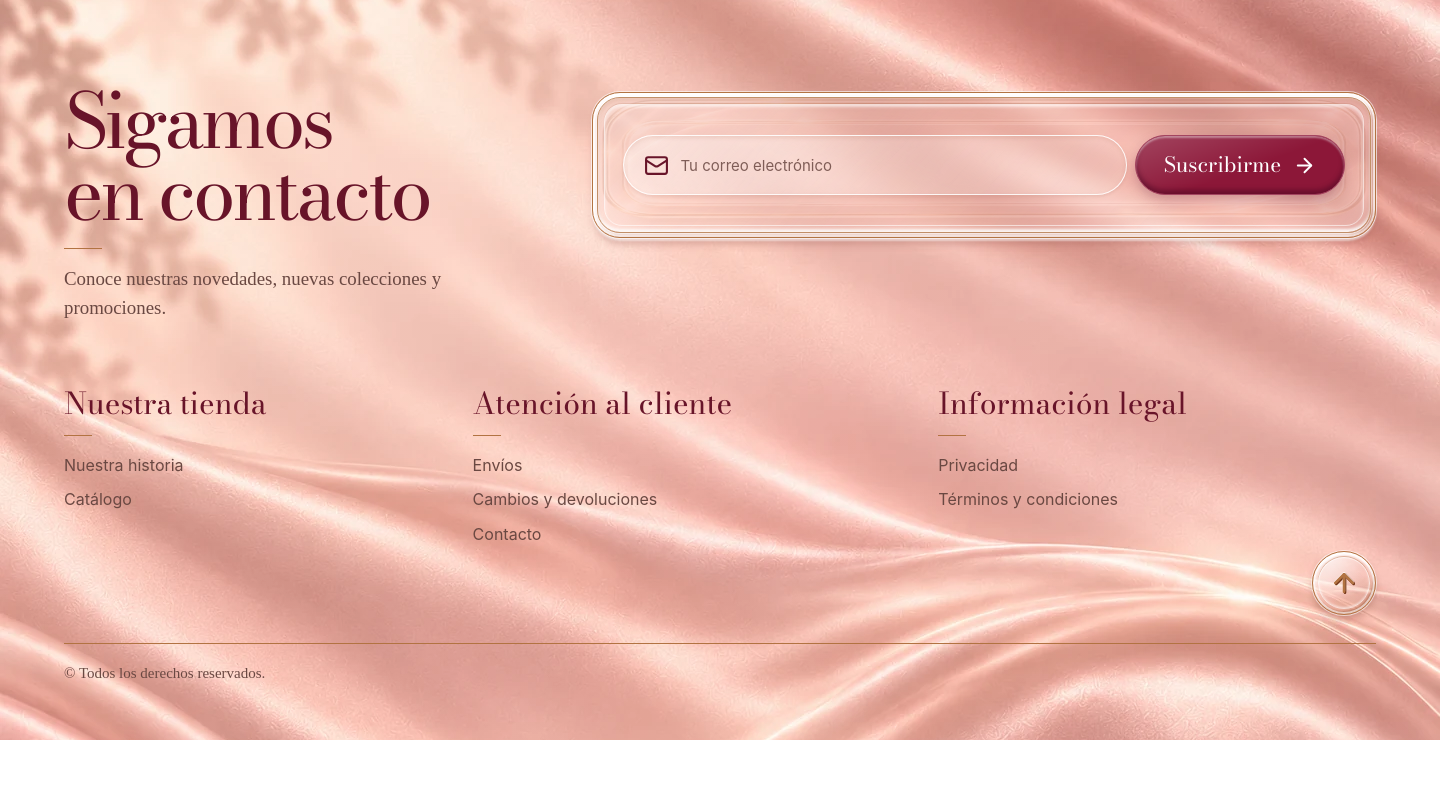
it: footer Firma editorial › confirma la suscripción solo después del guardado y muestra un error cuando falla
This screenshot has width=1440, height=810.
Type " USER@EXAMPLE.COM " into the field labelled "correo electrónico".
click(893, 165); type(" USER@EXAMPLE.COM ")  # box 680,154 -> 1106,176
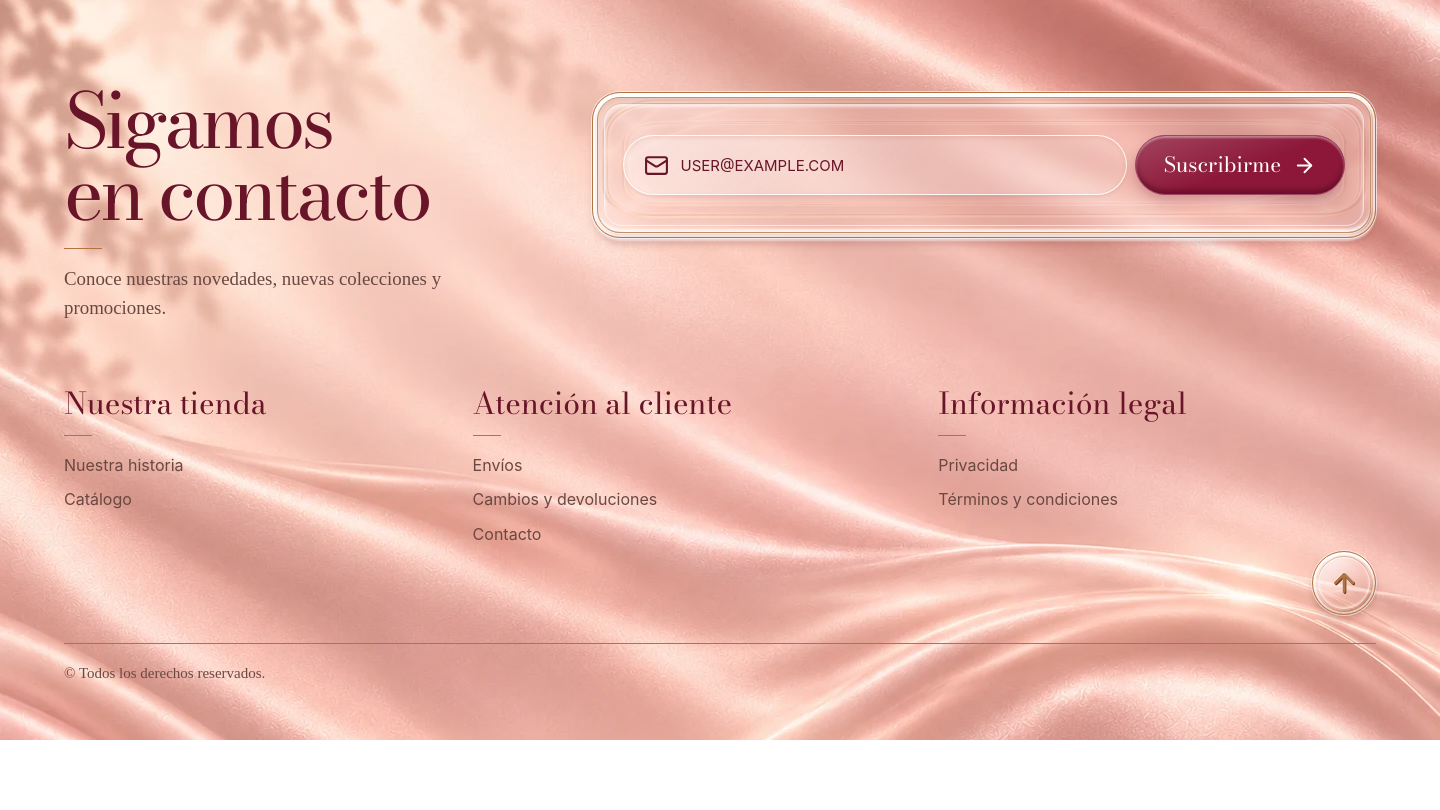
Submit the form "Suscribirme", box 592,92 -> 1376,238
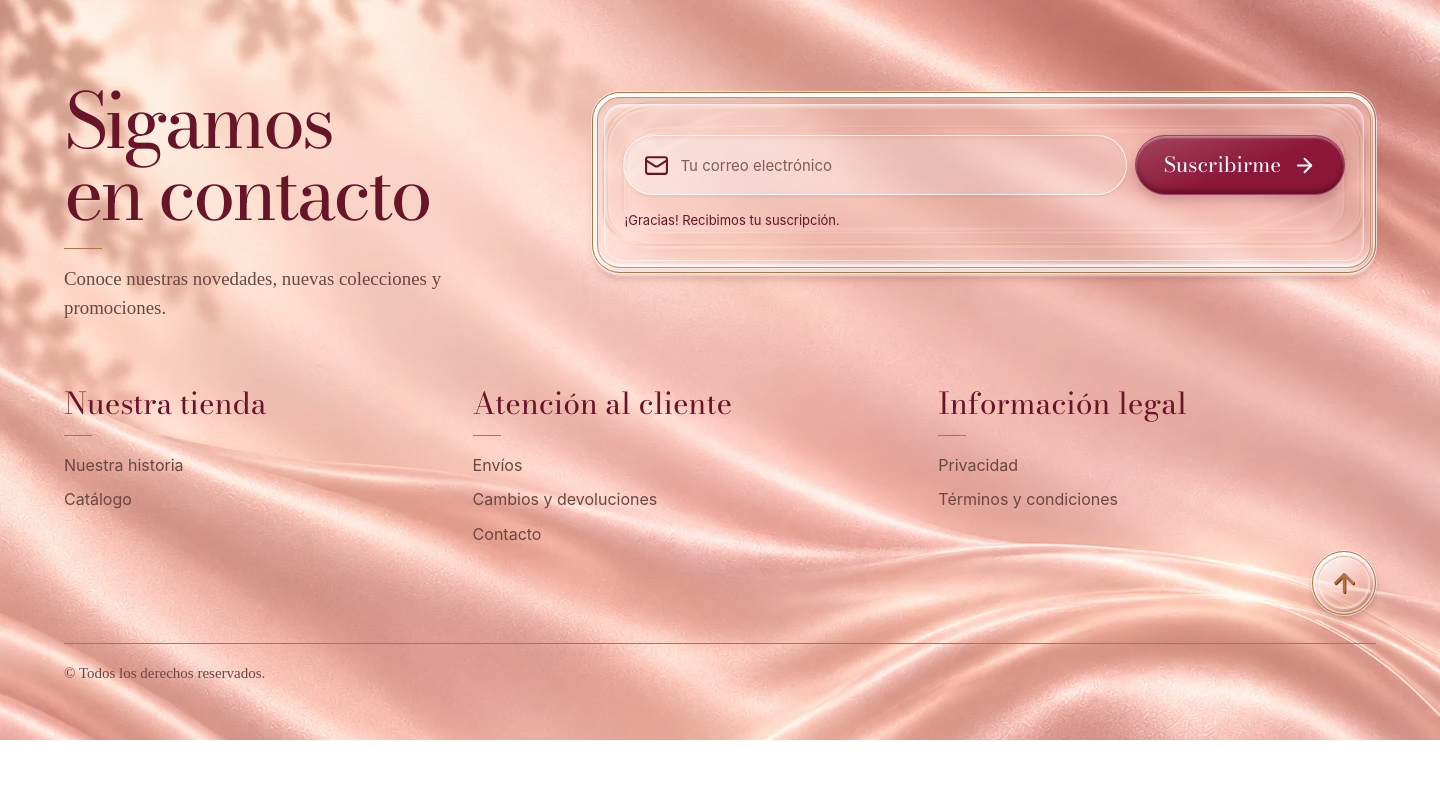
Now the message "¡Gracias! Recibimos tu suscripción." is shown, box 624,212 -> 840,228
Now the field labelled "correo electrónico" is empty
Type "other@example.com" into the field labelled "correo electrónico".
click(893, 165); type("other@example.com")  # box 680,154 -> 1106,176
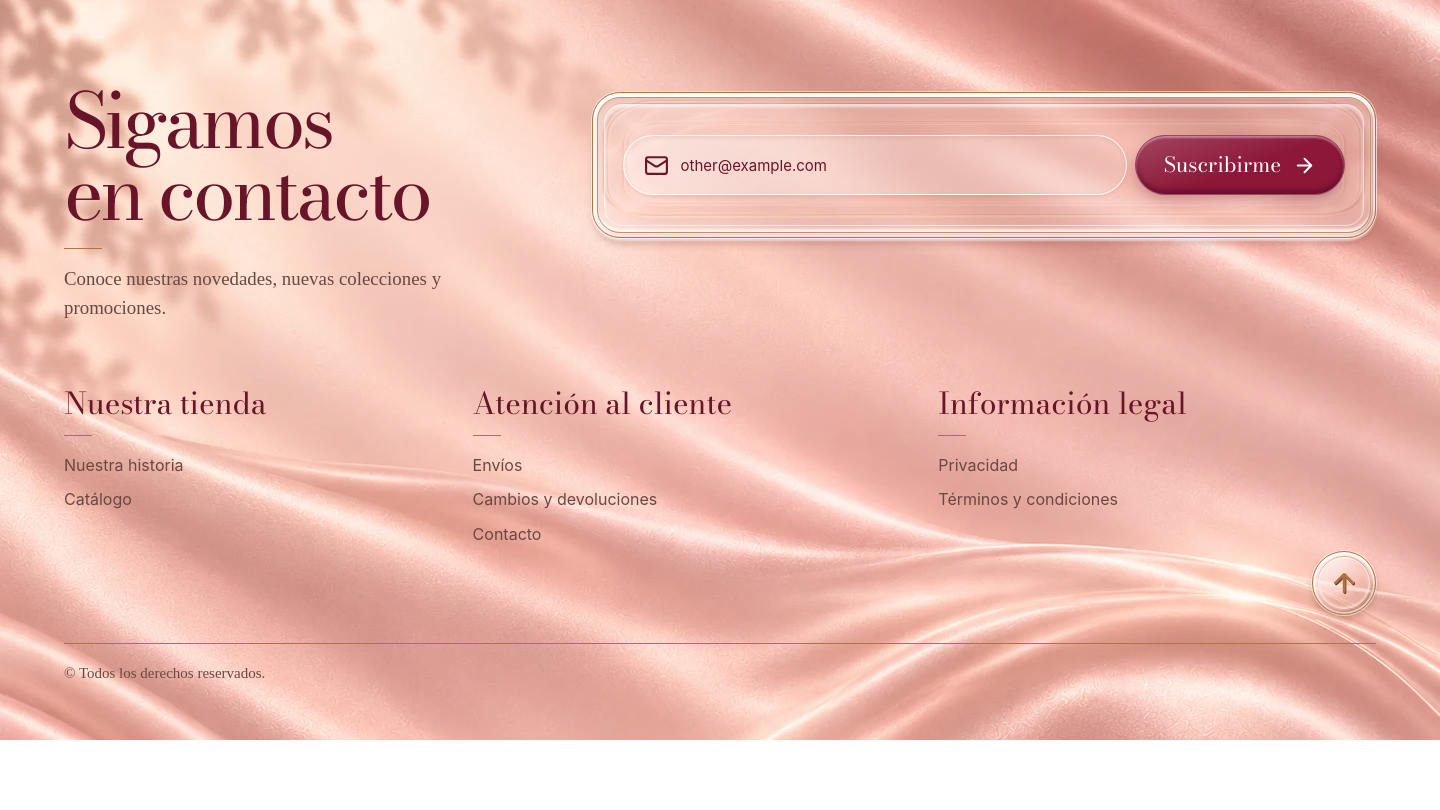
Submit the form "Suscribirme", box 592,92 -> 1376,238
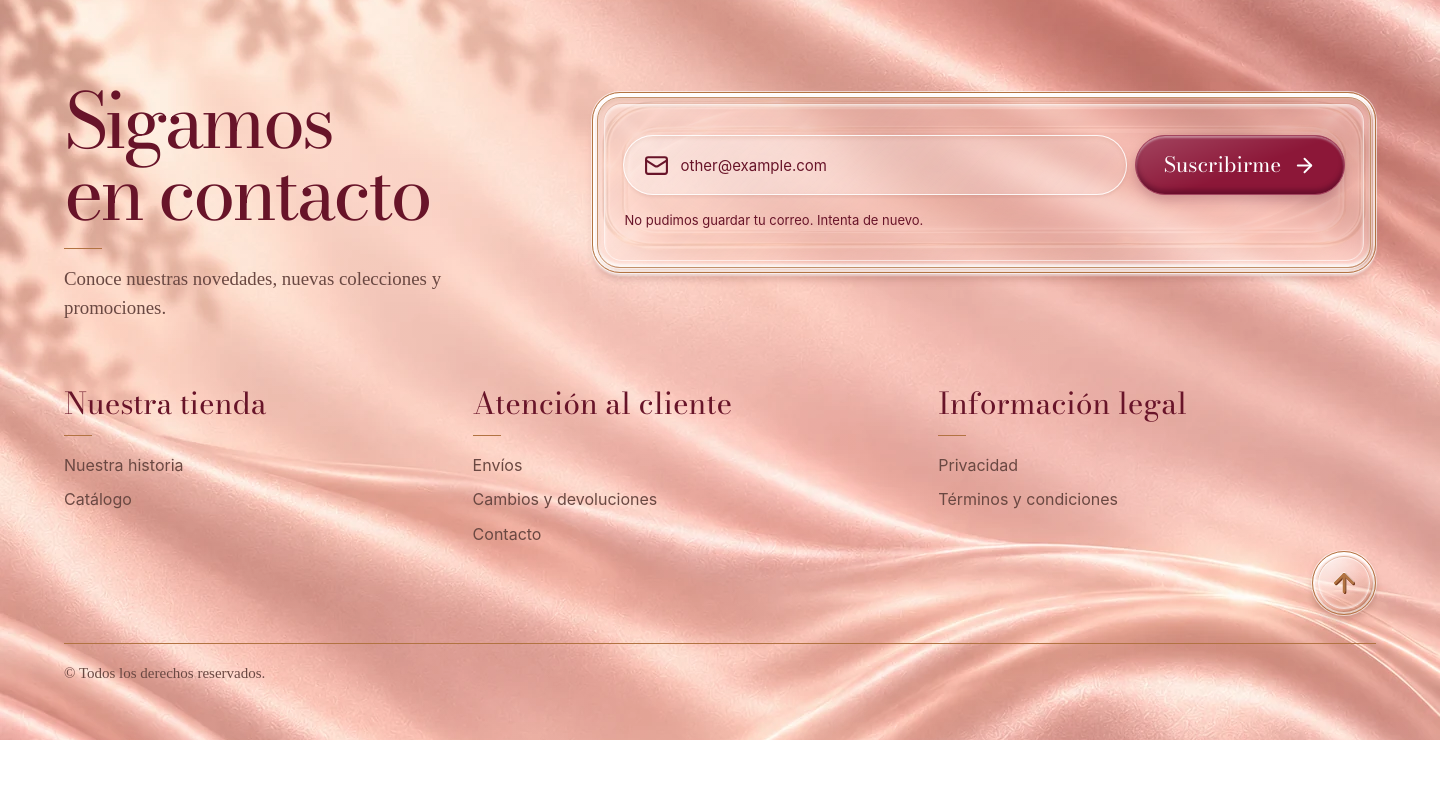
Now the message shows "No pudimos guardar tu correo", box 624,212 -> 923,228
